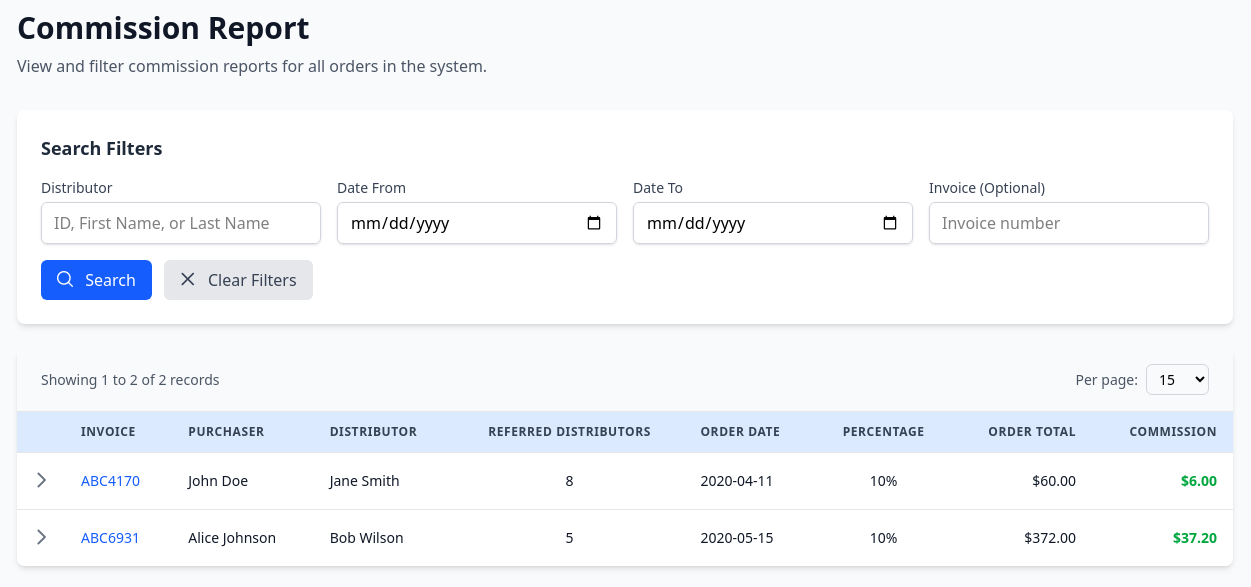
Test: CommissionReportView › clears filters when clear button is clicked
The width and height of the screenshot is (1251, 587).
Set filter values
In the field with id "distributor": (181, 223) x1=41 y1=202 x2=321 y2=244, type "John"
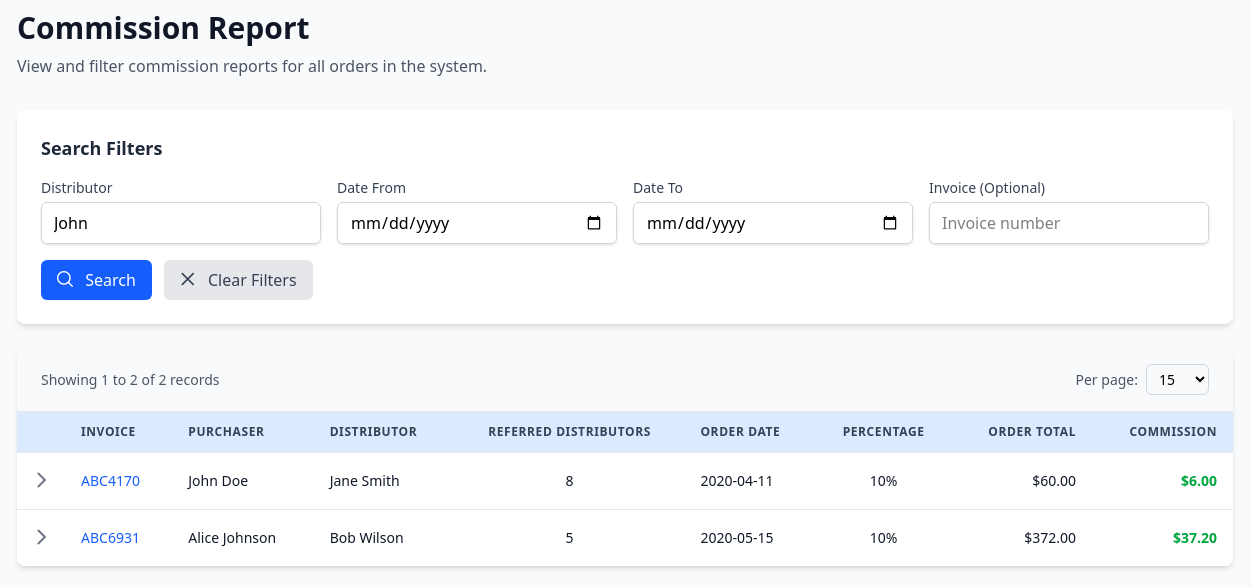
Find and click clear button (second button)
Click the button "Clear Filters": (238, 280) x1=164 y1=260 x2=313 y2=300
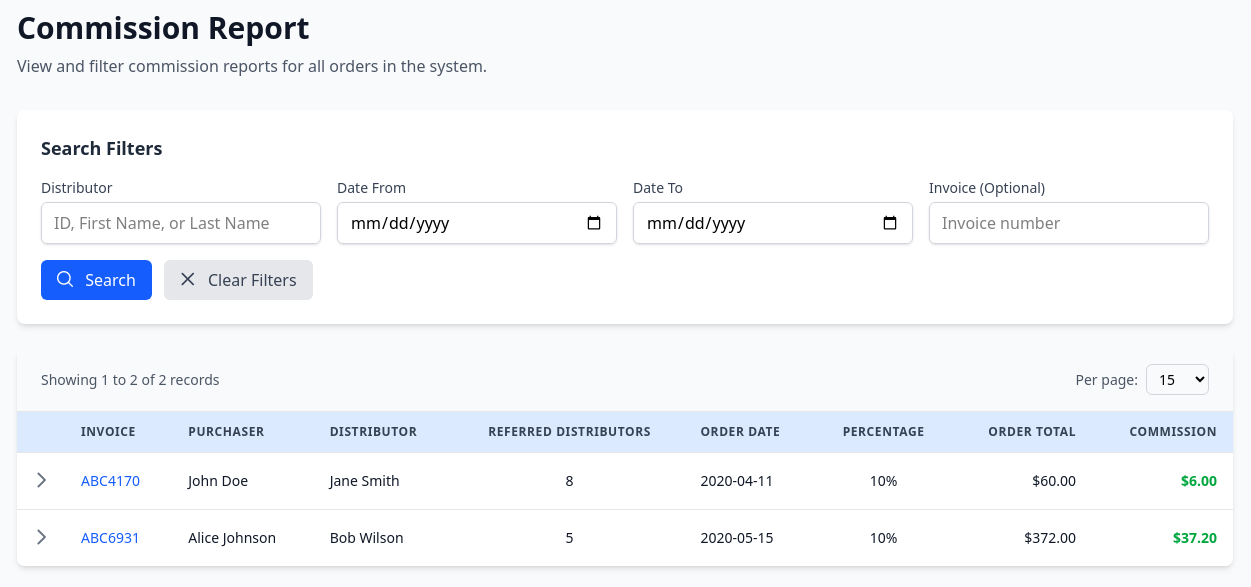
Check: the field with id "distributor" is empty, box x1=41 y1=202 x2=321 y2=244
